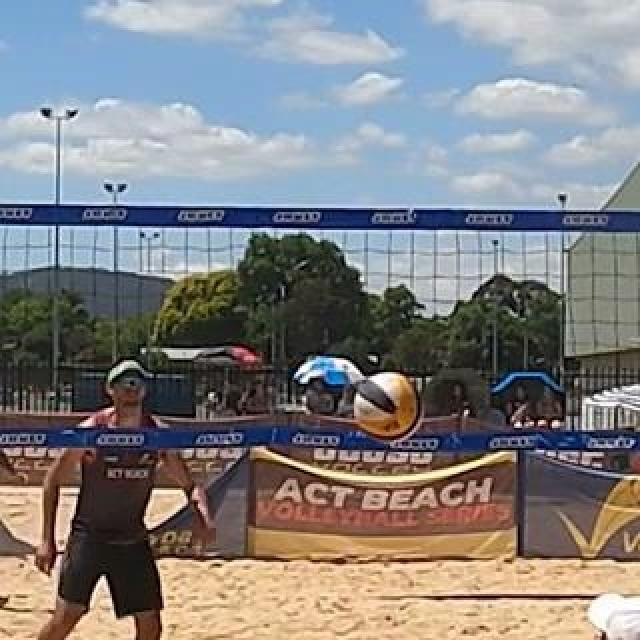volleyball: (356, 370, 420, 438)
